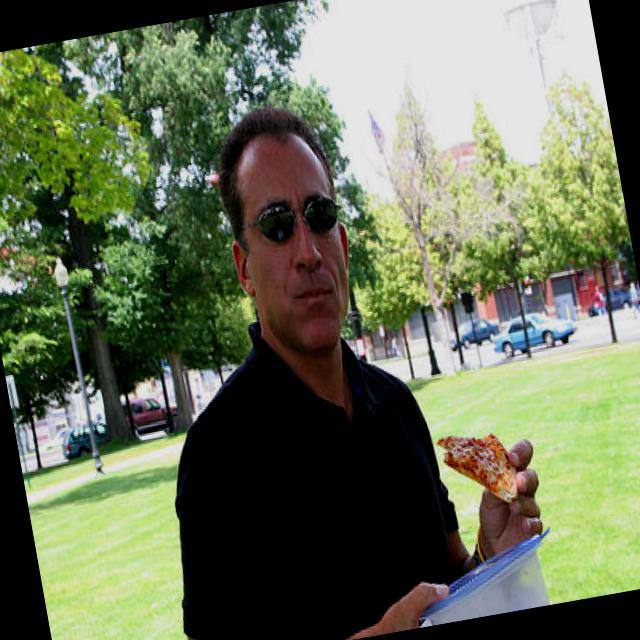Vehicle: (489, 304, 580, 358), (121, 388, 178, 439), (444, 312, 501, 352), (58, 419, 111, 462), (128, 392, 180, 434), (584, 286, 634, 317)
